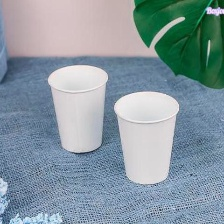paper_cup: (109, 86, 182, 188), (44, 59, 110, 156)
